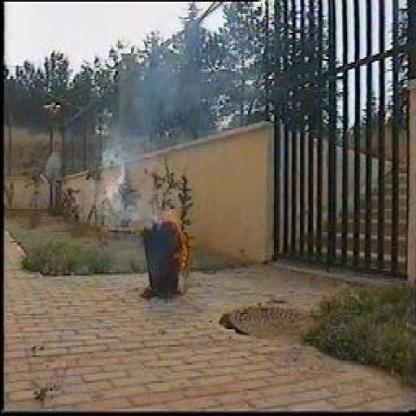-: (101, 86, 150, 214)
foggia-v2-map80-epoch100 - v1 4323: (174, 224, 187, 272)
